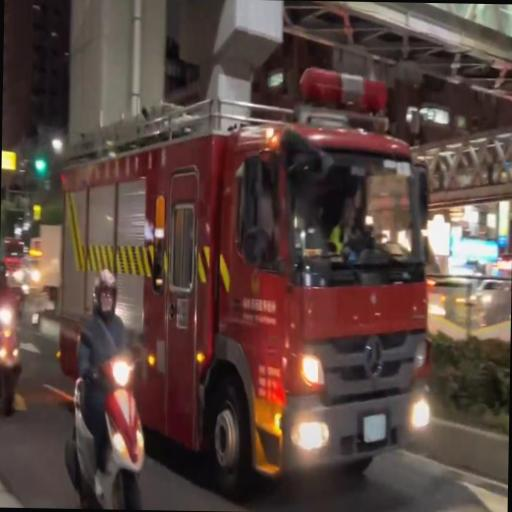fire truck: (59, 67, 431, 497)
